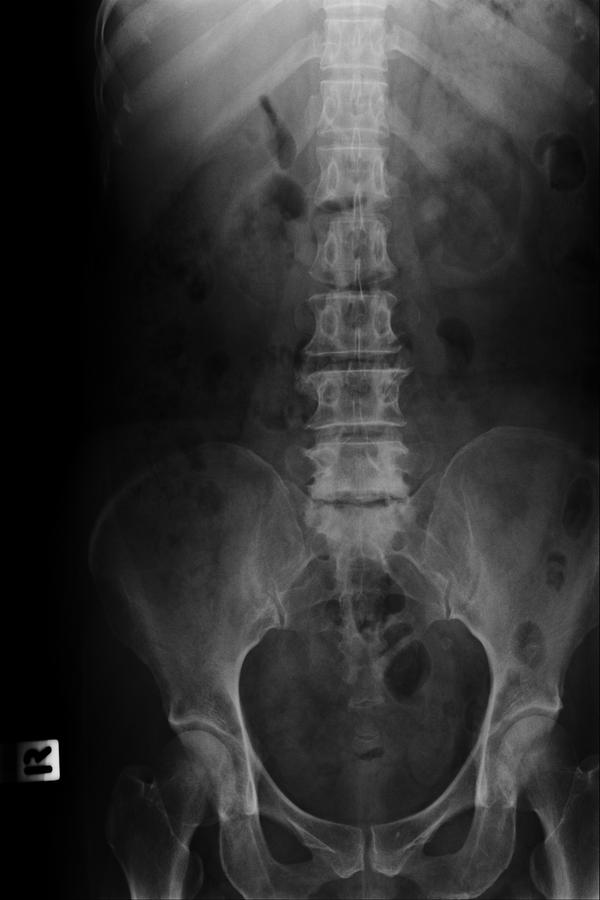not lumbar scoliosis: (286, 159, 425, 549)
